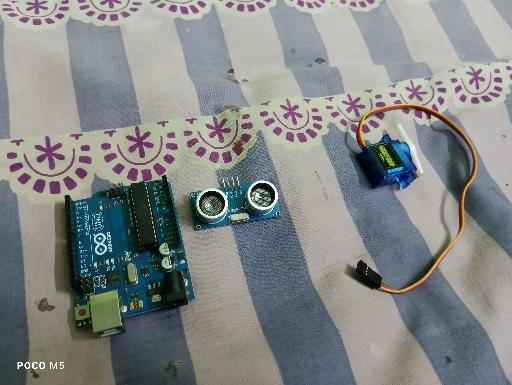Arduino: (64, 175, 196, 339)
Motor: (358, 123, 424, 190)
sensor: (191, 175, 282, 232)
